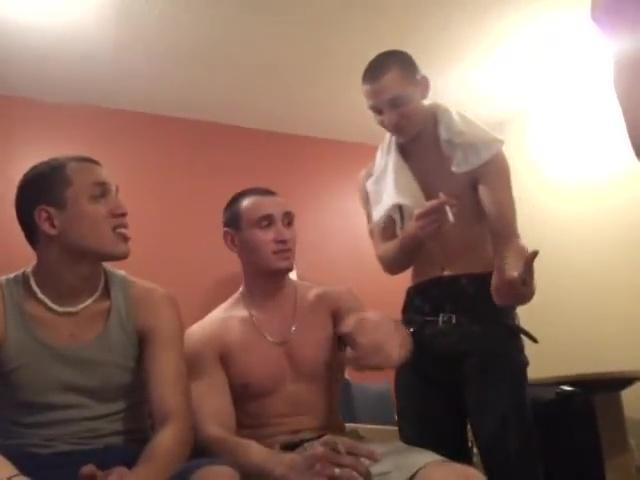cigarette: (439, 193, 455, 225)
